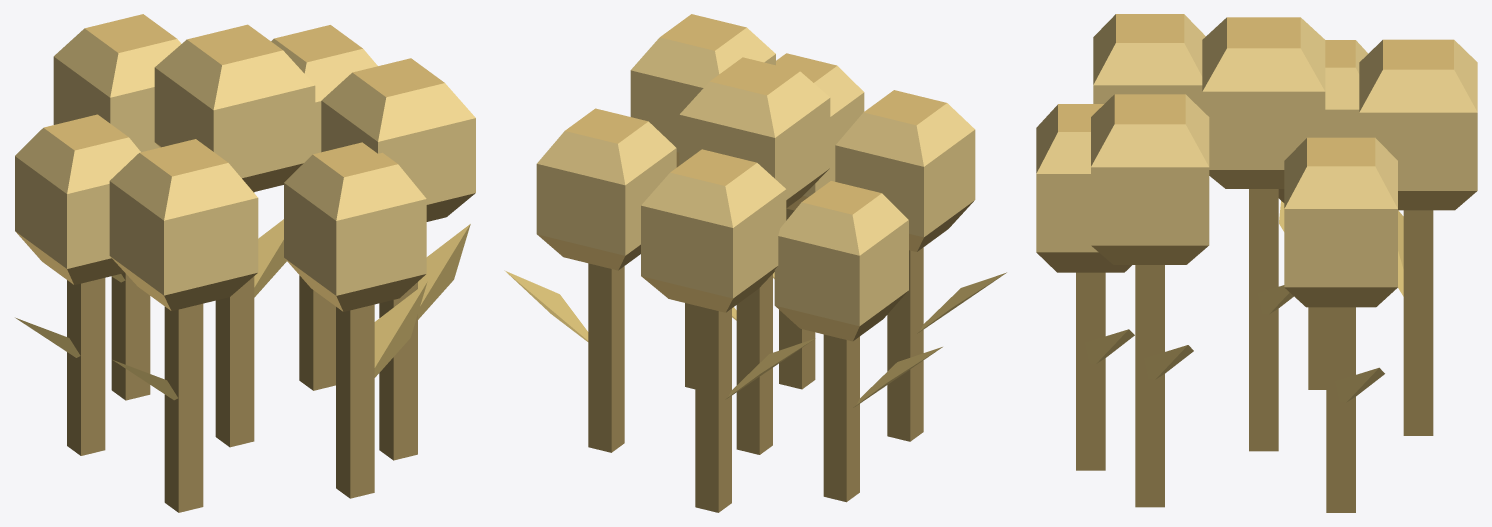
The model's file is ENV_Wheat_Tile_LOD0.glb.
3 renders of one model, left to right at view 1: azimuth 30°, elevation 25°; view 2: azimuth 150°, elevation 25°; view 3: azimuth 270°, elevation 25°, orthographic. The views are drawn at different scales.
Visible parts, largest first — view 1: Wheat_Tile_Seven_Ears.001; view 2: Wheat_Tile_Seven_Ears.001; view 3: Wheat_Tile_Seven_Ears.001.
Boxes of the visible parts, x1,y1,x2,y2 form: Wheat_Tile_Seven_Ears.001: (15, 14, 475, 512); Wheat_Tile_Seven_Ears.001: (504, 14, 1006, 512); Wheat_Tile_Seven_Ears.001: (1036, 14, 1477, 512).
Bounding box in the file's own units: 1.12 × 1 × 0.97.
